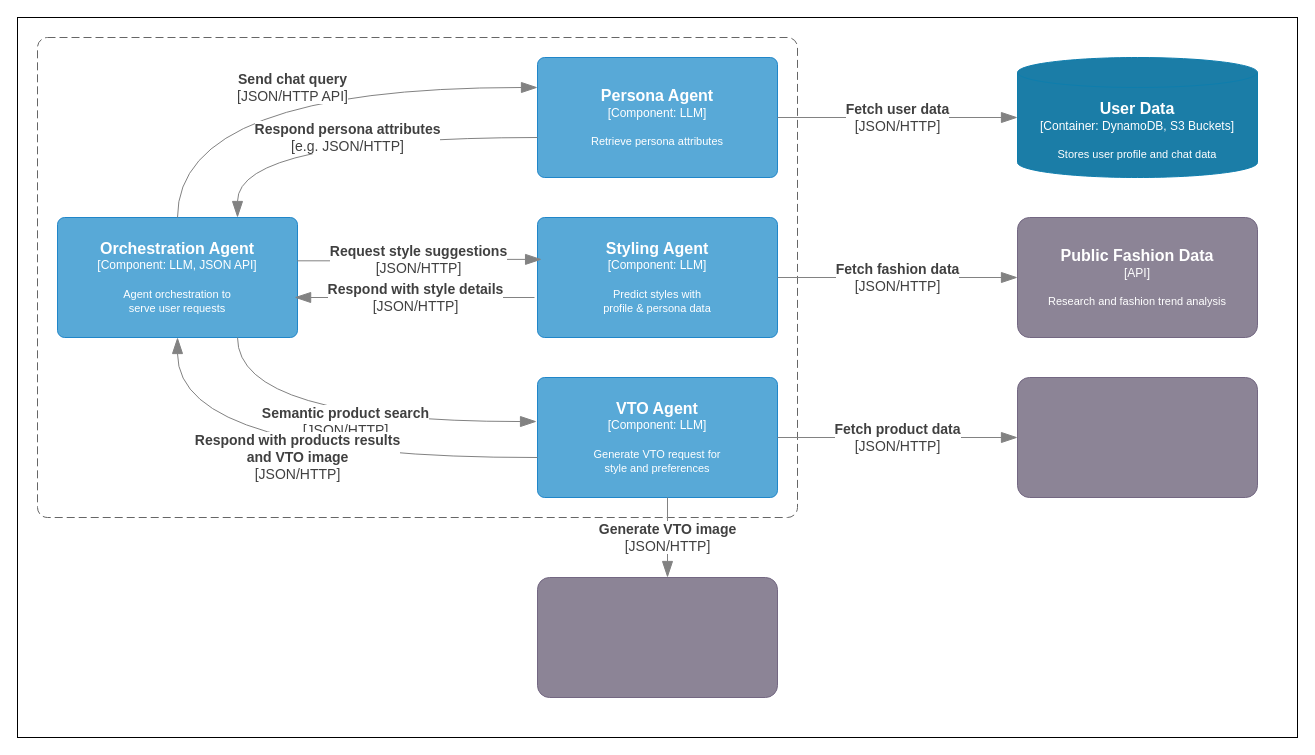
Image size: 1315x755. Some labels were removed from this diagram. Here are the shapes that lost their labels. From the top down, the box of each, then its label:
(36, 36, 798, 518): Fashion Agent Orchestrates AI reasoning and style recommendations
(1016, 376, 1258, 498): Ecommerce Partner [API & Plugin] User data and product inventory
(536, 576, 778, 698): Image Generation [Gemini Flash API] Generate try-on for user
